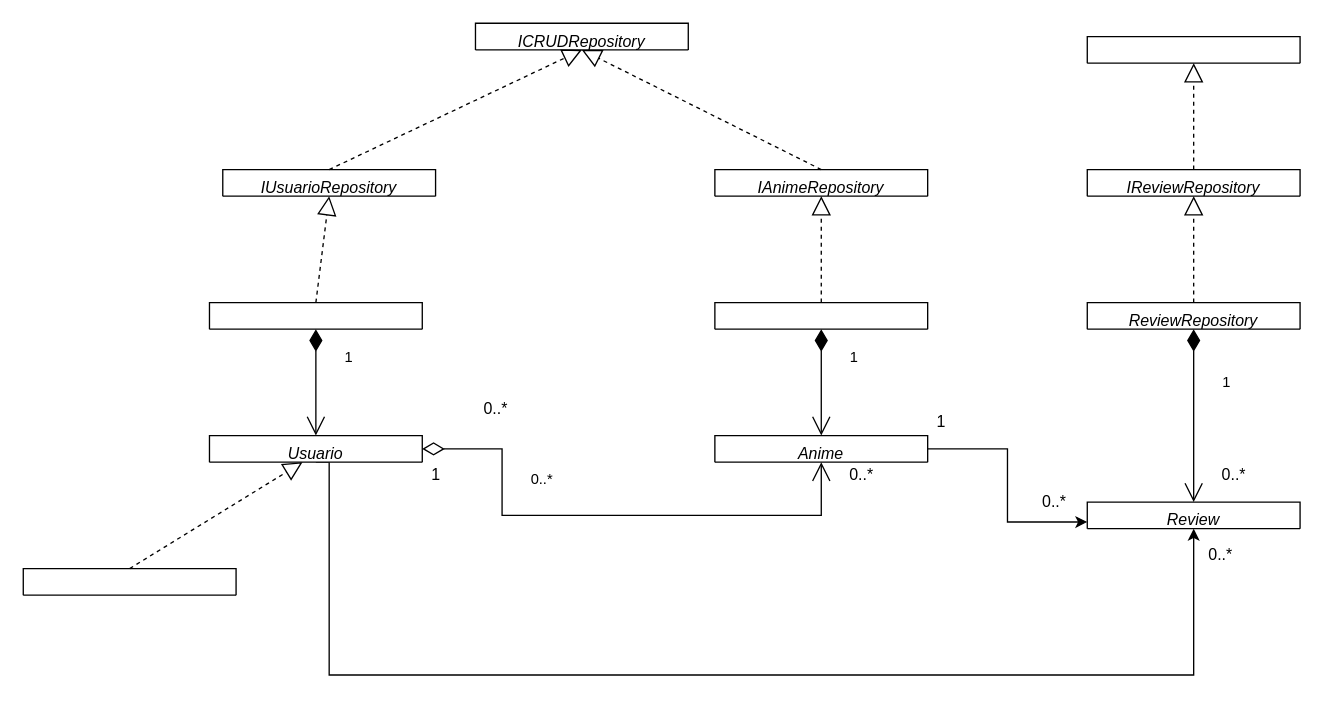
The diagram is 1323 pixels wide and 709 high, and some of its shapes have lost their labels. The shapes that lost their labels are listed below. From the top down, each one's centre as x and y in pixels, then its label:
the point at 1193,49: ICRUDReview
the point at 315,315: UsuarioRepository
the point at 821,315: AnimeRepository
the point at 129,581: Administrador
